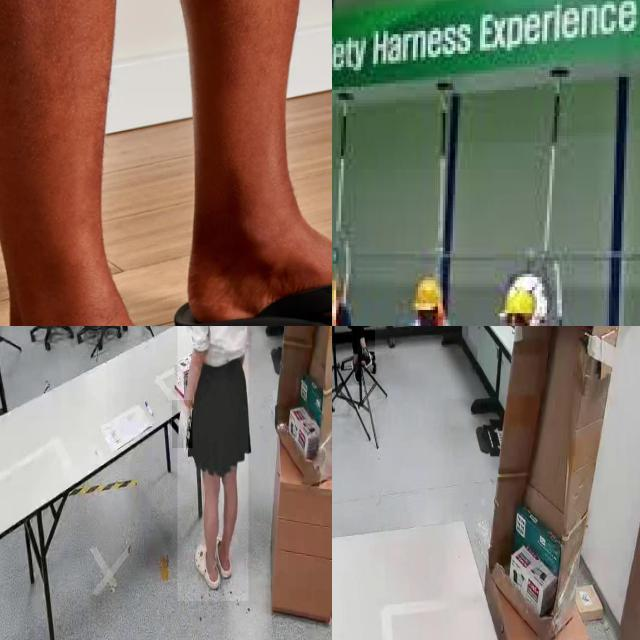Sandals: (173, 228, 332, 326)
hand_glove: (172, 400, 193, 449)
person: (177, 326, 248, 602), (332, 326, 375, 386)
shoes: (350, 358, 364, 387), (359, 343, 374, 370)
